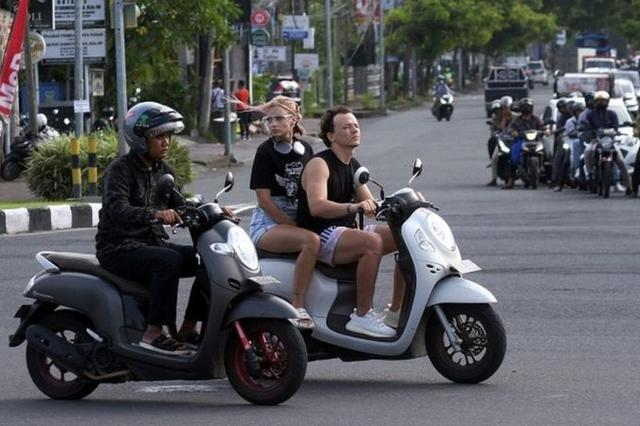helm: (125, 103, 186, 160)
motor: (27, 207, 311, 407), (248, 181, 509, 385)
non-helm: (321, 108, 361, 149), (268, 98, 301, 138)
